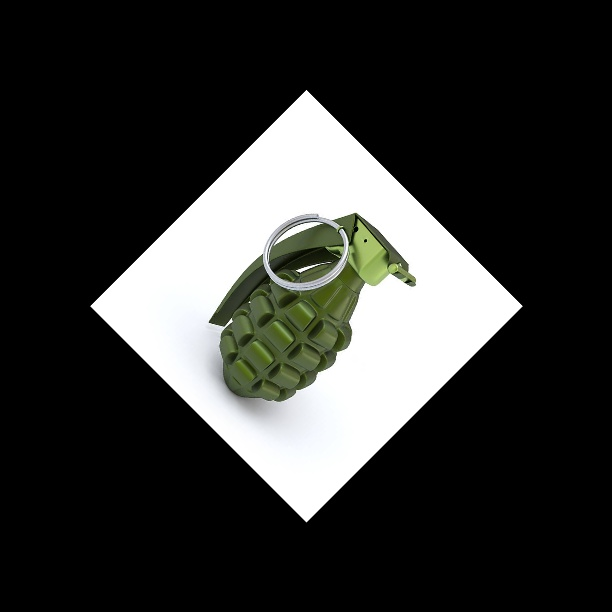e1: (209, 211, 417, 402)
